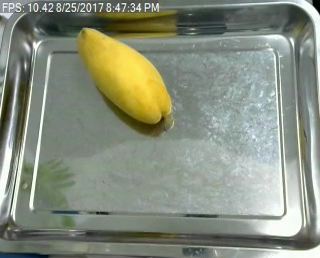Mango: (71, 23, 179, 129)
